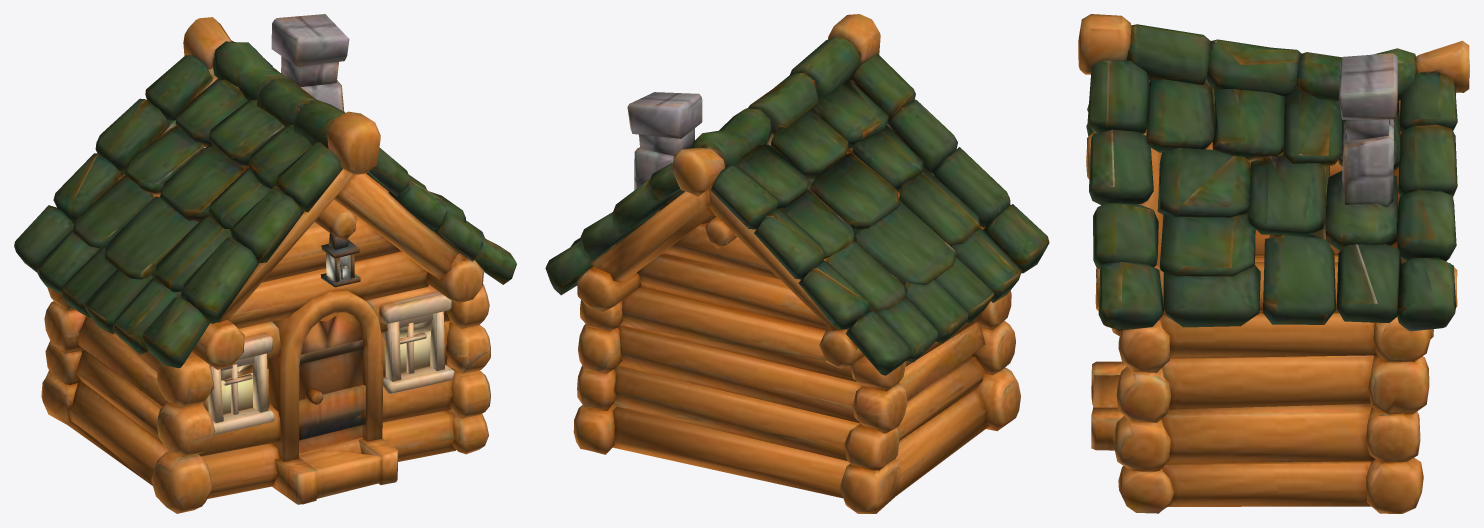
The model's file is cabin.glb.
3 views of the same model, side by side, from view 1: azimuth 30°, elevation 25°; view 2: azimuth 150°, elevation 25°; view 3: azimuth 270°, elevation 25° (orthographic). The views are drawn at different scales.
Bounding box in the file's own units: 1 × 1 × 0.8421.
Materials: 1 (1 with a texture image).
